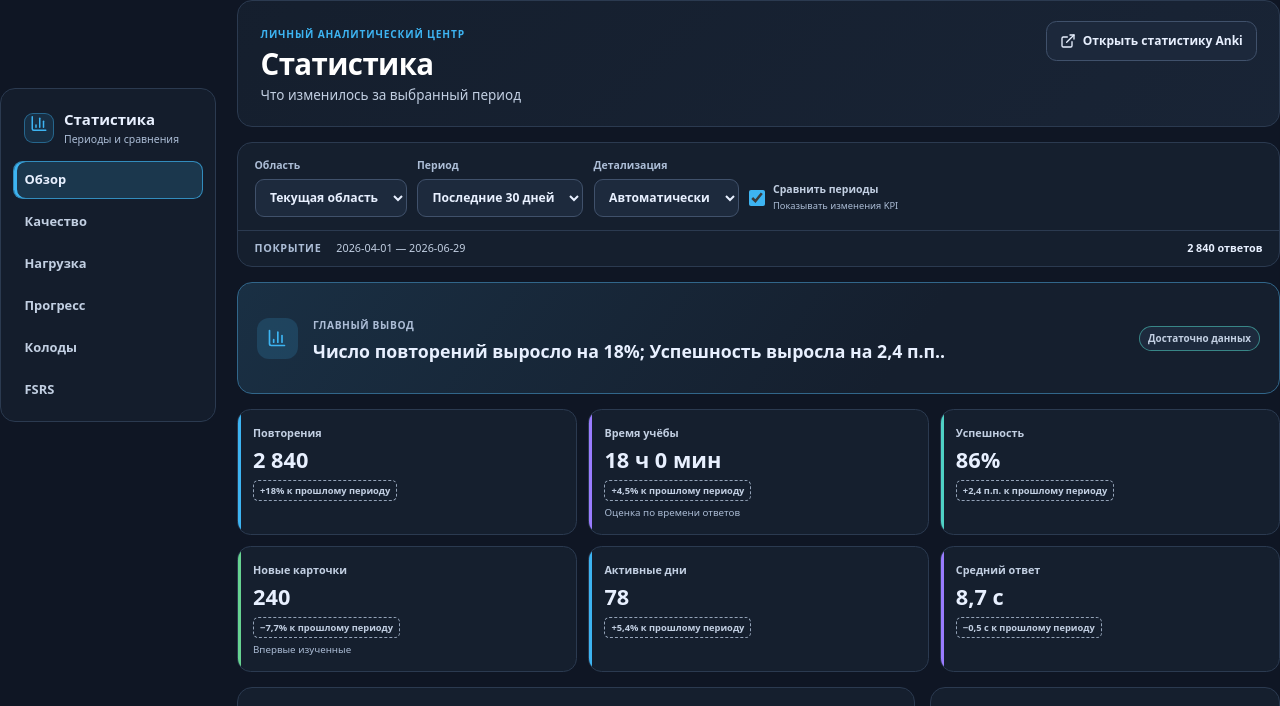
Test: Statistics visual system › does not apply a stale response after a newer query
The width and height of the screenshot is (1280, 706).
Select "Последние 30 дней" in the dropdown labelled "Период" at [500, 198], box [417,179,583,217]
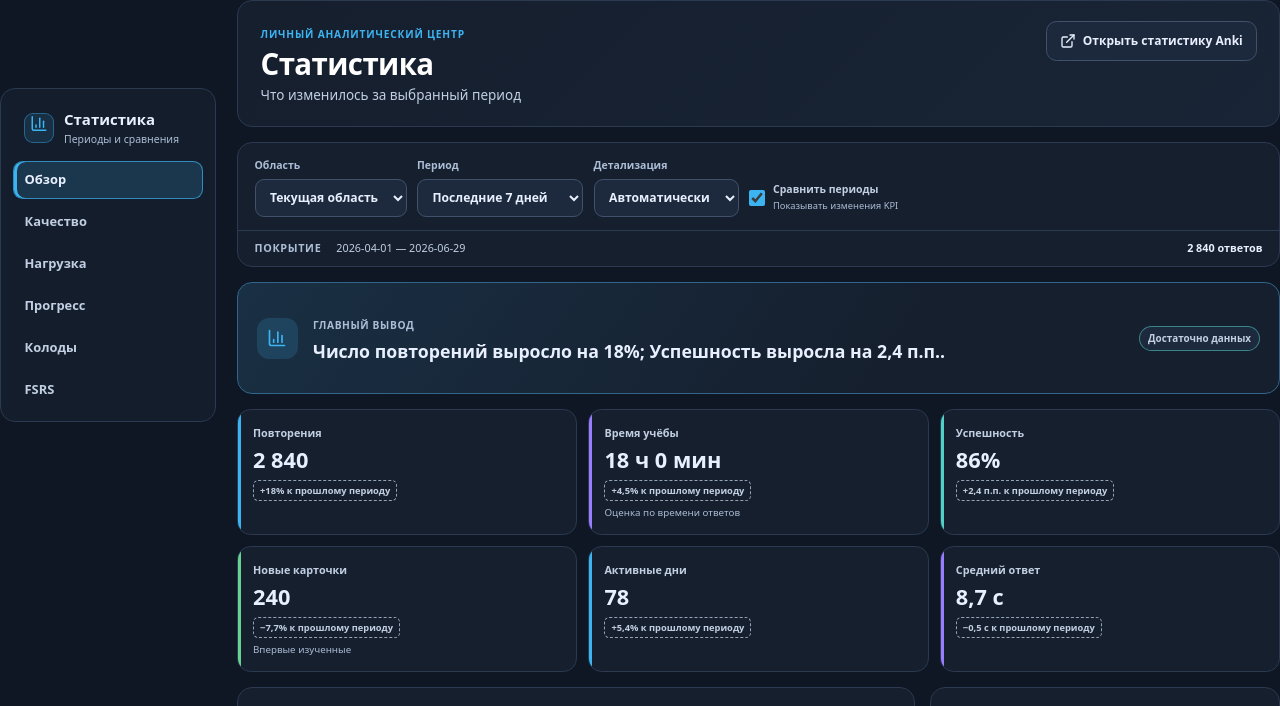
Select "Последние 7 дней" in the dropdown labelled "Период" at [500, 198], box [417,179,583,217]
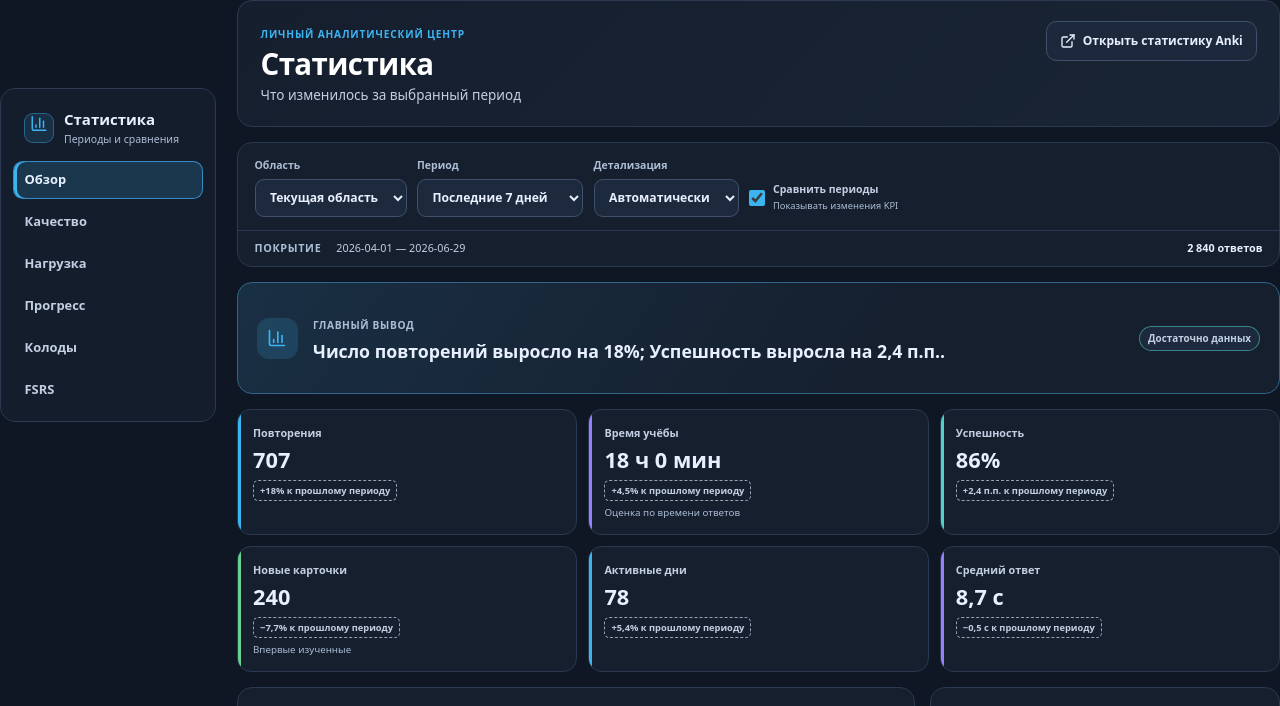
Expected: the text "707" is shown, [253,445,290,474]
